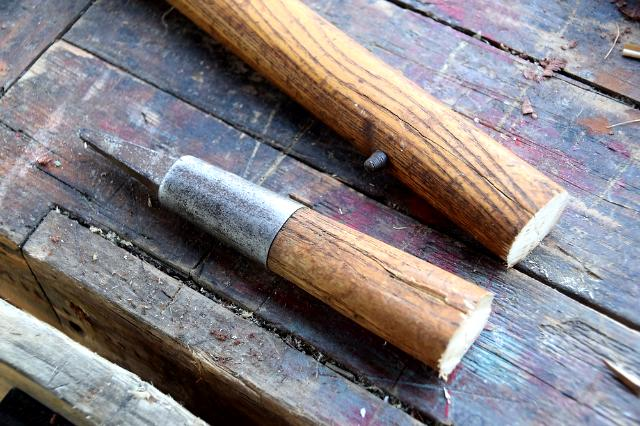ice pick: (80, 127, 493, 375)
